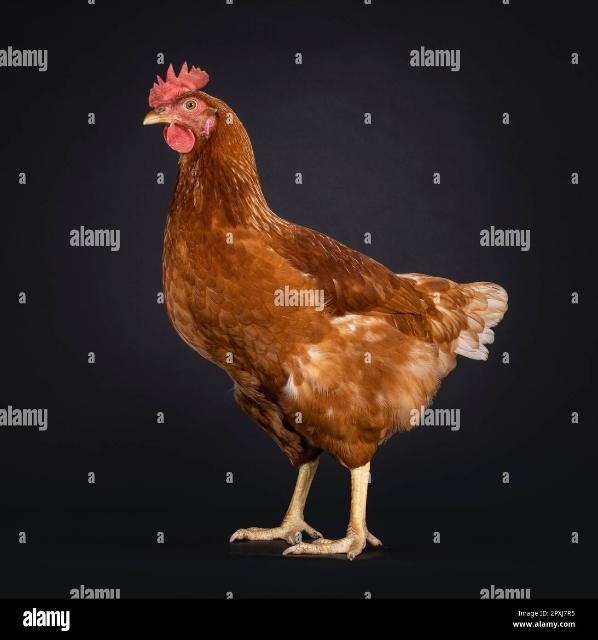Chicken: (138, 65, 508, 561)
